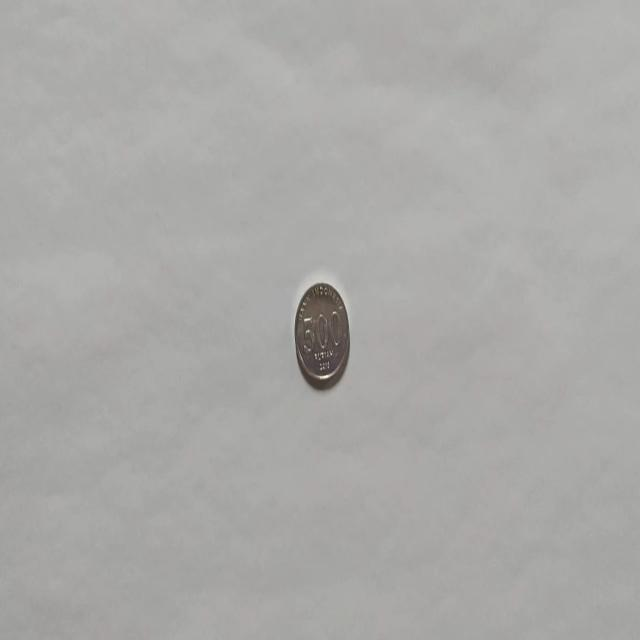lima ratus rupiah: (293, 280, 351, 388)
